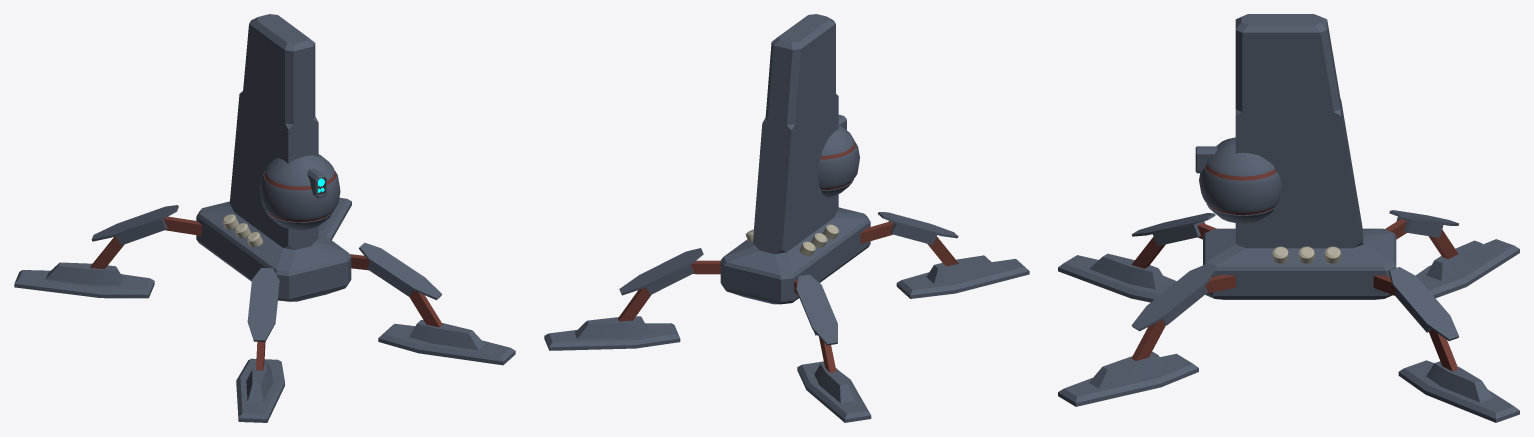
The model's file is DroneSoldier.fbx.
3 views of the same model, side by side, from view 1: azimuth 30°, elevation 25°; view 2: azimuth 150°, elevation 25°; view 3: azimuth 270°, elevation 25° (orthographic). The views are drawn at different scales.
Parts seen in each view (by area): view 1: pCube5, pCube235 (×4), pCube233 (×3), pasted__pSphere6, pCube234 (×2), pCube238; view 2: pCube5, pCube235 (×3), pCube233 (×3), pasted__pSphere6, pCube234, pCube236; view 3: pCube5, pCube235 (×4), pCube233 (×4), pasted__pSphere6, pCube234 (×3), pCube232.
Boxes of the visible parts, x1=… form: pCube5: x1=196, y1=14, x2=351, y2=301; pCube235 (×4): x1=14, y1=197, x2=515, y2=422; pCube233 (×3): x1=91, y1=205, x2=441, y2=341; pasted__pSphere6: x1=259, y1=154, x2=340, y2=230; pCube234 (×2): x1=90, y1=236, x2=442, y2=327; pCube238: x1=163, y1=216, x2=201, y2=235; pCube5: x1=720, y1=14, x2=870, y2=304; pCube235 (×3): x1=544, y1=255, x2=1029, y2=422; pCube233 (×3): x1=619, y1=212, x2=958, y2=345; pasted__pSphere6: x1=818, y1=124, x2=859, y2=197; pCube234: x1=618, y1=287, x2=650, y2=321; pCube236: x1=860, y1=221, x2=893, y2=243; pCube5: x1=1203, y1=14, x2=1396, y2=299; pCube235 (×4): x1=1058, y1=239, x2=1519, y2=422; pCube233 (×4): x1=1131, y1=210, x2=1458, y2=340; pasted__pSphere6: x1=1199, y1=137, x2=1282, y2=223; pCube234 (×3): x1=1131, y1=237, x2=1458, y2=371; pCube232: x1=1205, y1=275, x2=1235, y2=293.
Size of the model in its own units: 32.26 by 26.47 by 35.28.
